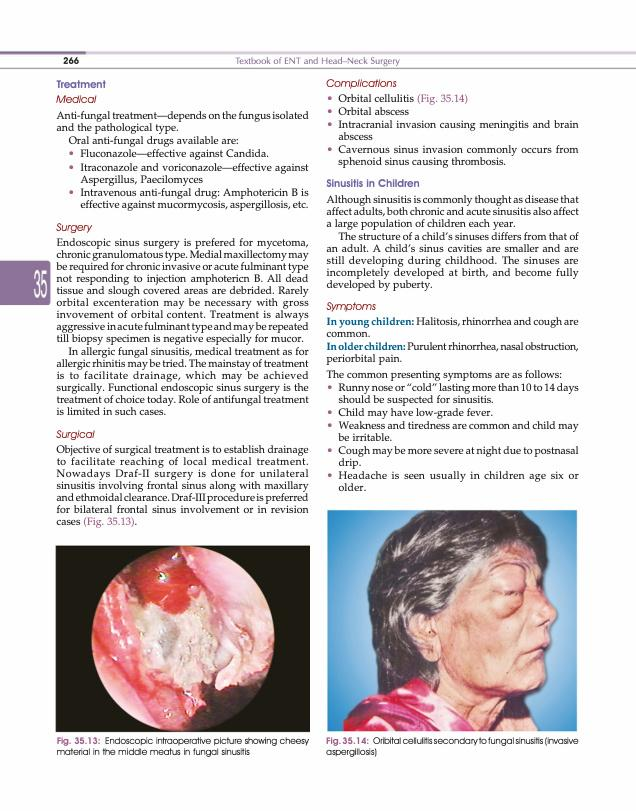caption: (55, 736, 310, 758), (325, 736, 580, 758)
header: (233, 56, 401, 67)
image: (326, 508, 577, 733), (55, 544, 311, 733)
list: (326, 382, 580, 493), (325, 92, 580, 169), (68, 148, 310, 213)
sub-section-heading: (325, 178, 421, 188), (325, 77, 398, 90), (325, 301, 377, 313), (55, 79, 107, 90), (55, 428, 96, 441), (55, 221, 94, 234), (55, 94, 98, 104)
text: (55, 237, 310, 417), (325, 193, 580, 292), (55, 443, 310, 529), (325, 316, 580, 381), (56, 110, 311, 147)
